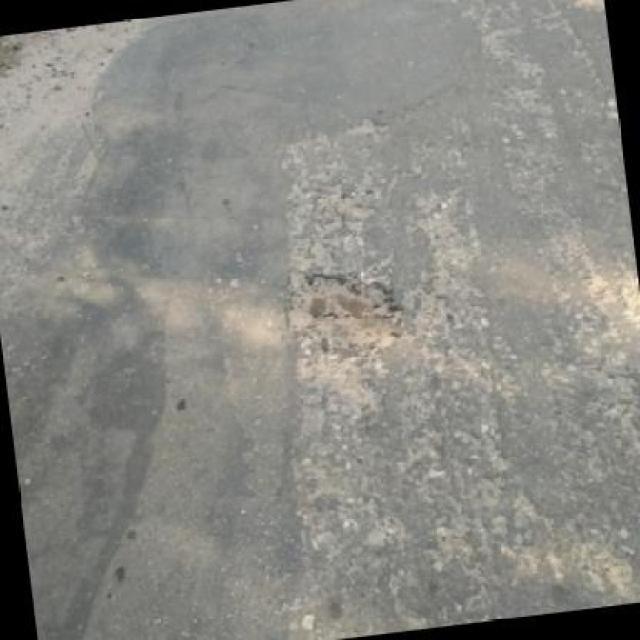pothole: (276, 254, 418, 372)
